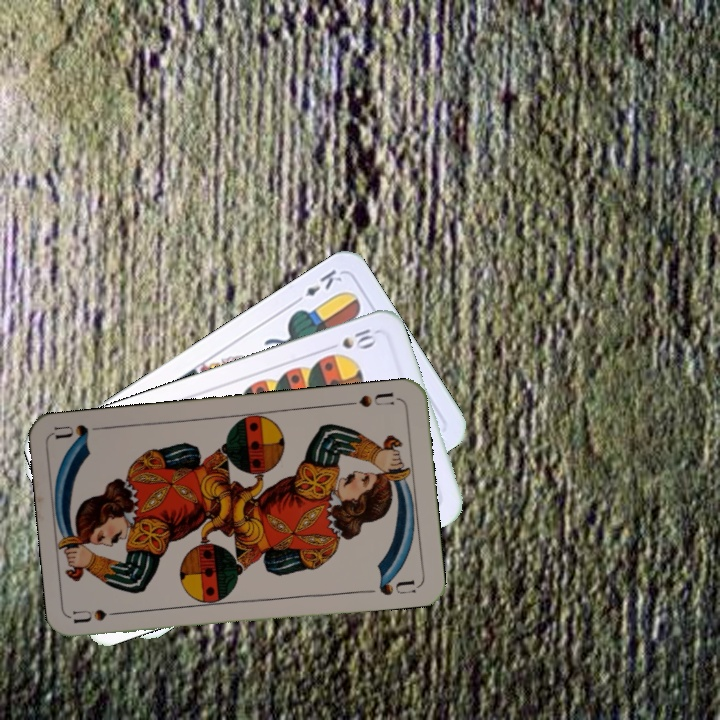EK: (290, 265, 345, 307)
S10: (322, 321, 379, 353)
SU: (71, 605, 130, 626), (342, 388, 396, 410)
